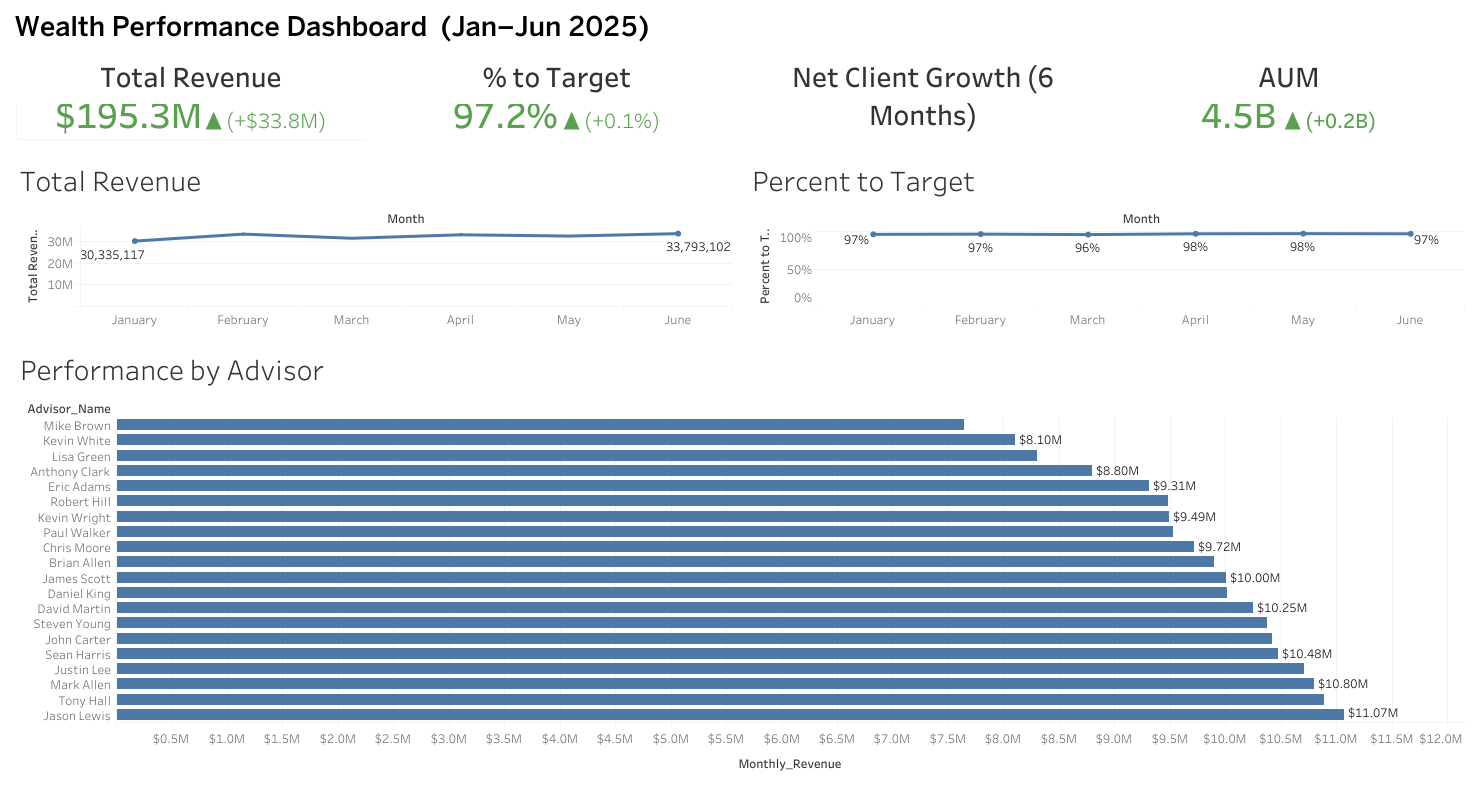

The dashboard page shown, as its layout file describes it:
{"tool":"tableau","page":{"name":"Dashboard 3","canvas":[1000,1000],"units":"permille","ordinal":0},"visuals":[{"type":"text","box":[6.6,13.4,986.9,44.1]},{"type":"worksheet","title":"KPI- Total Revenue Jan - June 2025","mark":"Text","rows":["Calculation_55169152294248479"],"box":[6.6,57.5,246.7,129]},{"type":"worksheet","title":"KPI - % to Target Y(Jan - June 2025)","mark":"Text","rows":["Calculation_55169152294248479"],"box":[253.3,57.5,246.7,129]},{"type":"worksheet","title":"KPI- Net Client Growth (Jan - June 2025)","mark":"Text","rows":["Calculation_55169152294248479"],"box":[500,57.5,246.7,129]},{"type":"worksheet","title":"KPI- Total AUM (Assets Under Management) 30 Days LB","mark":"Text","rows":["Calculation_55169152294248479"],"box":[746.7,57.5,246.7,129]},{"type":"worksheet","title":"Total Revenue Jan - June 2025","mark":"Automatic","rows":["Calculation_35254799399661583"],"cols":["Month"],"box":[6.6,186.5,493.4,236.5]},{"type":"worksheet","title":"Percent to Target Jan-June 2025","mark":"Automatic","rows":["Calculation_3483745473632002050"],"cols":["Month"],"box":[500,186.5,493.4,236.5]},{"type":"worksheet","title":"Advisor Revenue Ranking","mark":"Automatic","rows":["Advisor_Name"],"cols":["Monthly_Revenue"],"box":[6.6,423,986.9,563.6]}]}

Visuals, with their boxes on the dashboard's canvas, which has no fixed pixel size, in thousandths of its width and height (x1, y1, x2, y2). These are canvas units, not pixel positions in the 1479x794 screenshot, which may show the page scaled, cropped or inside an application window:
text: 7,13,994,58
"KPI- Total Revenue Jan - June 2025" worksheet (Text marks): 7,58,253,186
"KPI - % to Target Y(Jan - June 2025)" worksheet (Text marks): 253,58,500,186
"KPI- Net Client Growth (Jan - June 2025)" worksheet (Text marks): 500,58,747,186
"KPI- Total AUM (Assets Under Management) 30 Days LB" worksheet (Text marks): 747,58,993,186
"Total Revenue Jan - June 2025" worksheet: 7,186,500,423
"Percent to Target Jan-June 2025" worksheet: 500,186,993,423
"Advisor Revenue Ranking" worksheet: 7,423,994,987
